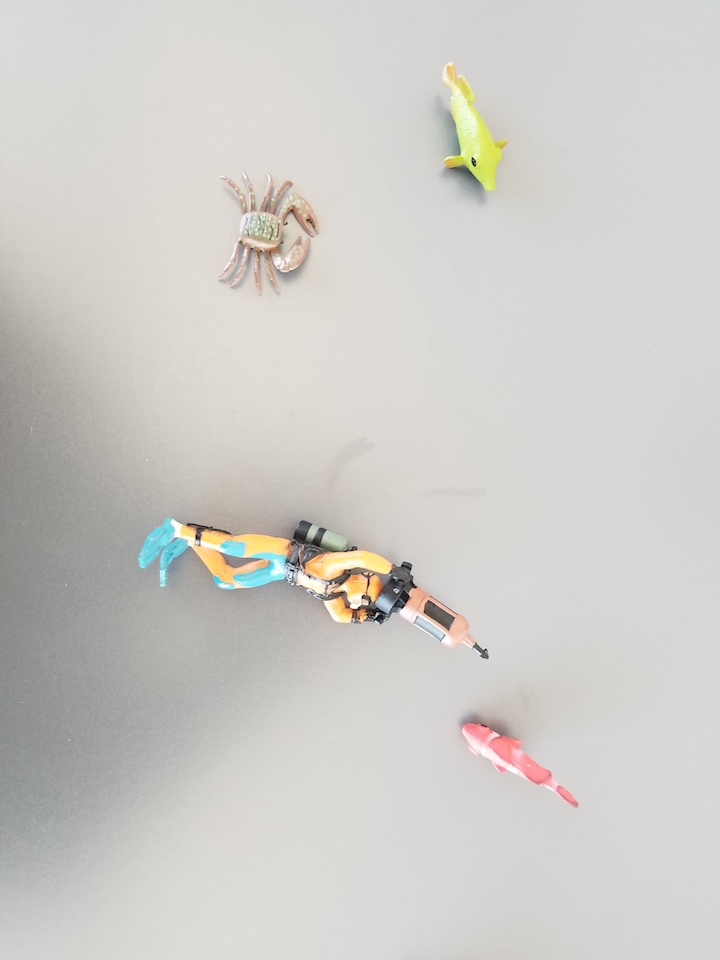crab: (214, 169, 321, 302)
diver: (137, 513, 498, 666)
fish: (455, 710, 586, 814), (433, 57, 512, 192)
